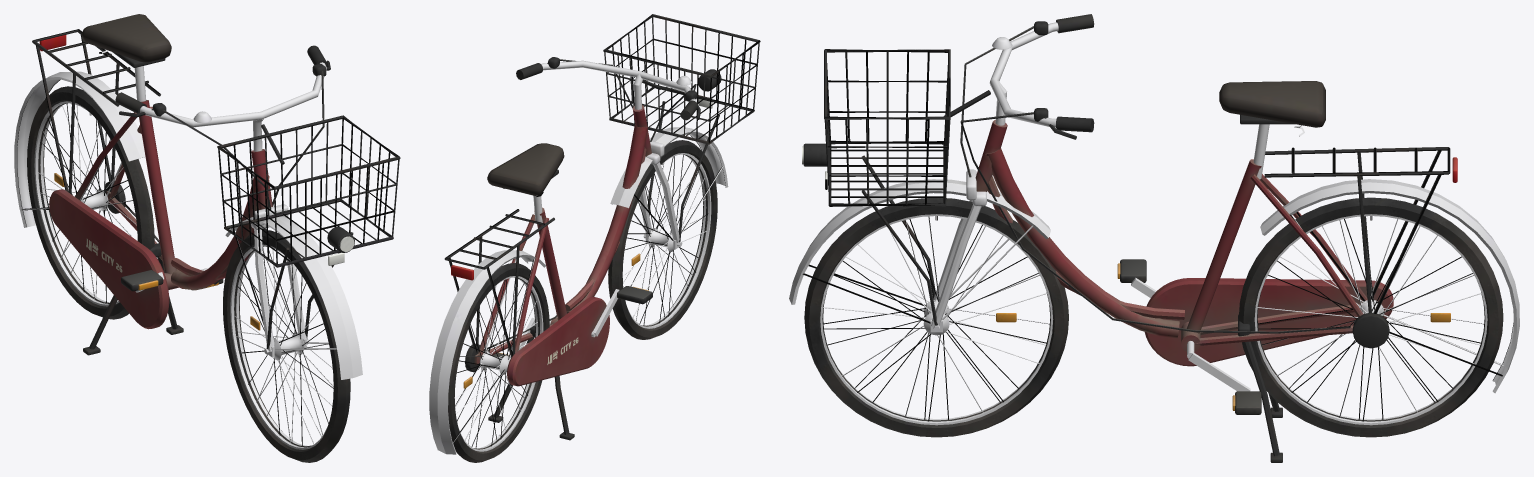
The model's file is Bicycle.fbx.
3 renders of one model, left to right at view 1: azimuth 30°, elevation 25°; view 2: azimuth 150°, elevation 25°; view 3: azimuth 270°, elevation 25°, orthographic. The views are drawn at different scales.
Parts seen in each view (by area): view 1: Bicycle_Frame, Bicycle_WheelFront, Bicycle_WheelRear; view 2: Bicycle_Frame, Bicycle_WheelFront, Bicycle_WheelRear; view 3: Bicycle_Frame, Bicycle_WheelFront, Bicycle_WheelRear.
Part boxes in pixels (<box>): Bicycle_Frame: <box>14,14,400,379</box>; Bicycle_WheelFront: <box>223,229,350,462</box>; Bicycle_WheelRear: <box>27,86,154,319</box>; Bicycle_Frame: <box>429,14,760,454</box>; Bicycle_WheelFront: <box>608,140,717,339</box>; Bicycle_WheelRear: <box>448,263,549,462</box>; Bicycle_Frame: <box>789,14,1519,462</box>; Bicycle_WheelFront: <box>804,198,1068,437</box>; Bicycle_WheelRear: <box>1238,197,1503,437</box>.
Size of the model in its own units: 0.6588 by 1 by 1.78.
